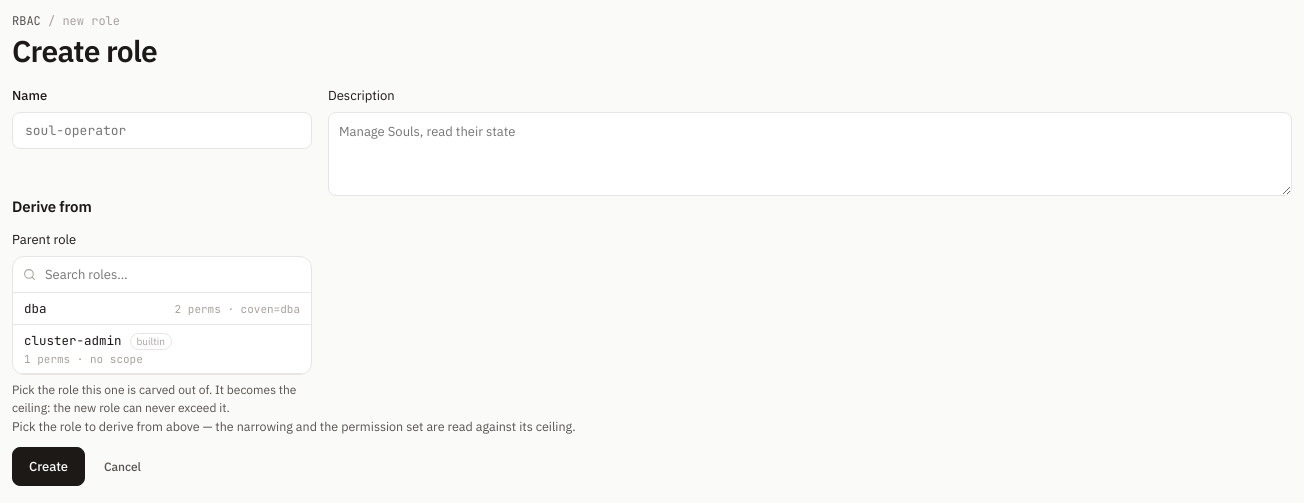
Test: CreateRolePage — derived roles (NIM-182) › the picker filters by name — a catalog of roles outgrows one screen
This screenshot has width=1304, height=503.
Check: the radio button with test id "parent-role-option-dba" is shown, box [13,292,311,324]
Type "cluster" into the field with test id "parent-role-search". click: {"x": 172, "y": 274}
box: [43,264,301,284]
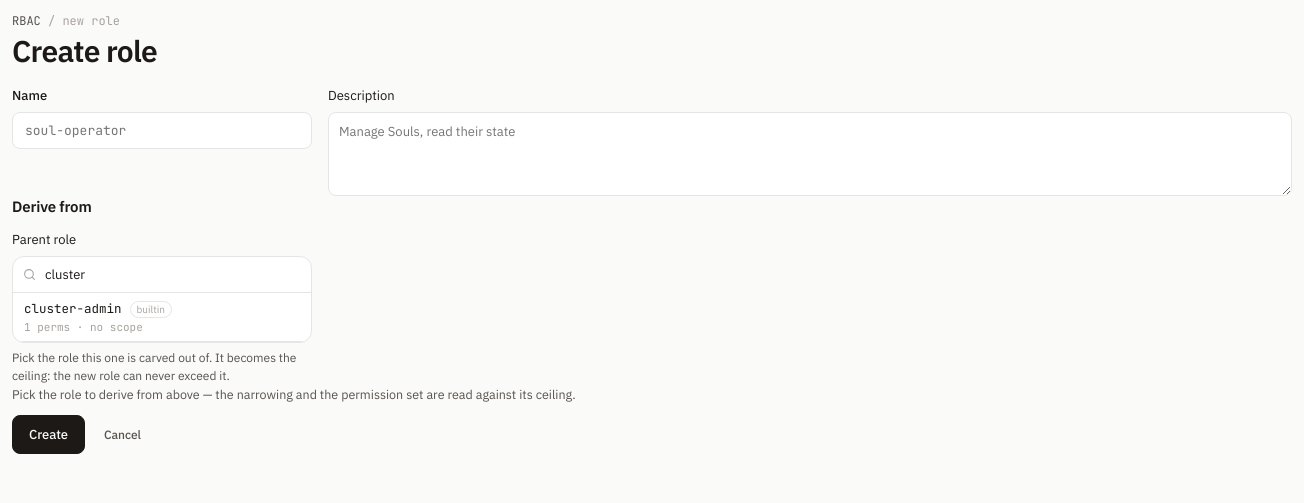
Check: the radio button with test id "parent-role-option-cluster-admin" is shown, box [13,292,311,342]
Check: the radio button with test id "parent-role-option-dba" is gone
